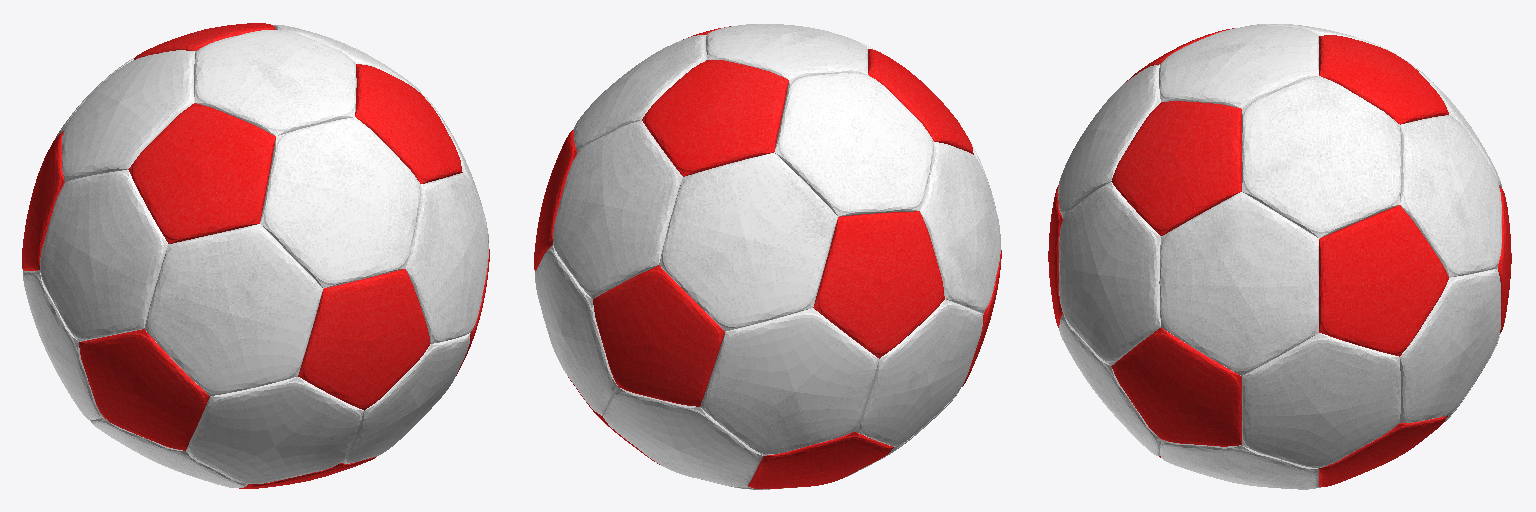
The picture shows the model from 3 angles: view 1: azimuth 30°, elevation 25°; view 2: azimuth 150°, elevation 25°; view 3: azimuth 270°, elevation 25°; orthographic projection.
Visible parts, largest first — view 1: Platonic; view 2: Platonic; view 3: Platonic.
Part boxes in pixels (x1,y1,x2,y2): Platonic: (22, 23, 489, 488); Platonic: (534, 24, 1001, 489); Platonic: (1048, 24, 1511, 489).
Bounding box in the file's own units: 20.88 × 20.72 × 20.78.
Materials: 1 (1 with a texture image).